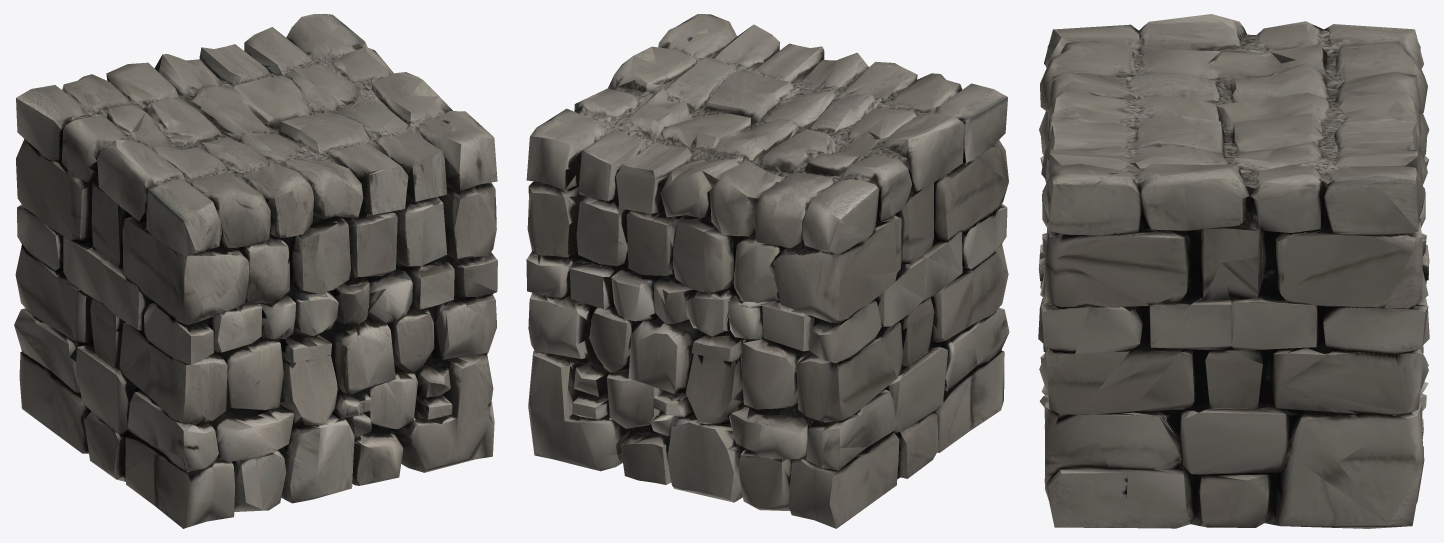
3 renders of one model, left to right at view 1: azimuth 30°, elevation 25°; view 2: azimuth 150°, elevation 25°; view 3: azimuth 270°, elevation 25°, orthographic. The views are drawn at different scales.
Parts seen in each view (by area): view 1: base-high; view 2: base-high; view 3: base-high.
Boxes of the visible parts, box(x1,y1,x2,y2) form: base-high: box(14, 14, 497, 528); base-high: box(526, 14, 1009, 528); base-high: box(1038, 14, 1429, 528).
Size of the model in its own units: 1 by 1 by 1.
1 material, 1 textured.
